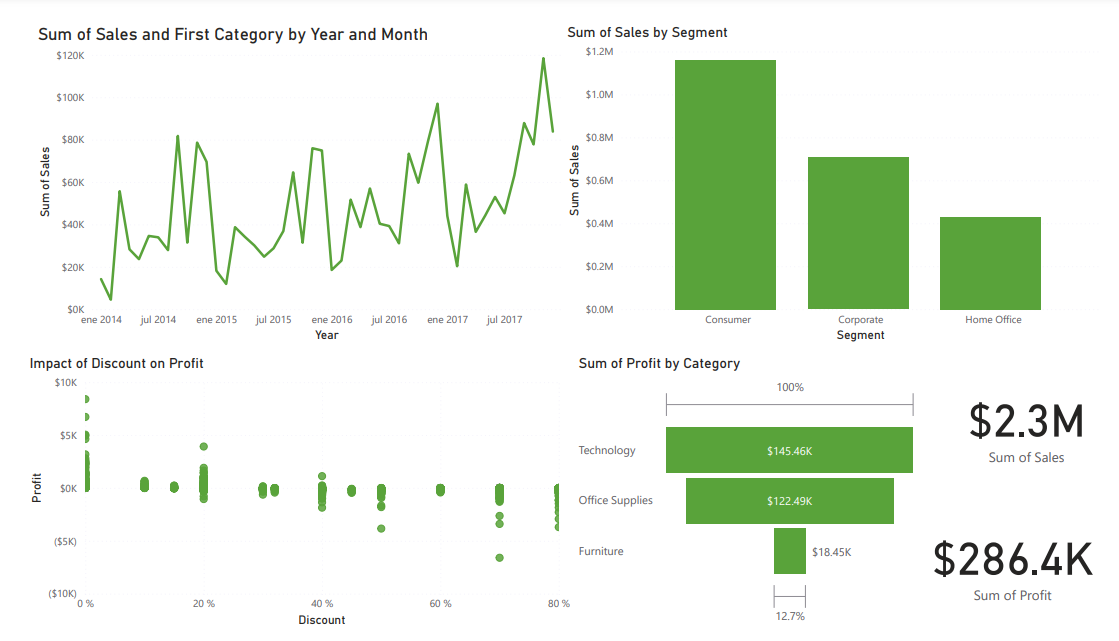

What the dashboard file says about the page in this screenshot:
{"tool":"powerbi","page":{"name":"Page 1","canvas":[1280,720],"ordinal":0},"visuals":[{"type":"lineChart","fields":{"Category":["superstore1 (2).Order Date.Variation.Date Hierarchy.Year","superstore1 (2).Order Date.Variation.Date Hierarchy.Month"],"Y":["Sum(superstore1 (2).Sales)"]},"box":[9.6,0,642.2,382.8],"z":0},{"type":"columnChart","fields":{"Category":["superstore1 (2).Segment"],"Y":["Sum(superstore1 (2).Sales)"]},"box":[638.1,0,642.2,382.8],"z":1000},{"type":"scatterChart","title":"Impact of Discount on Profit","fields":{"X":["superstore1 (2).Discount"],"Y":["superstore1 (2).Profit"]},"box":[0,392.5,651.8,328],"z":2000},{"type":"card","fields":{"Values":["Sum(superstore1 (2).Sales)"]},"box":[1096.4,392.5,183.9,164.7],"z":2001},{"type":"card","fields":{"Values":["Sum(superstore1 (2).Profit)"]},"box":[1063.5,557.1,216.8,163.3],"z":2002},{"type":"funnel","fields":{"Category":["superstore1 (2).Category"],"Y":["Sum(superstore1 (2).Profit)"]},"box":[651.8,392.5,411.7,328],"z":2003}]}

Visuals, with their boxes in screenshot pixels (x1, y1, x2, y2), scaled from the page's 1280x720 canvas onto the 1119x641 screenshot:
lineChart - superstore1 (2).Order Date.Variation.Date Hierarchy.Year x superstore1 (2).Order Date.Variation.Date Hierarchy.Month: pyautogui.locateOnScreen(8, 0, 570, 341)
columnChart - superstore1 (2).Segment x Sum(superstore1 (2).Sales): pyautogui.locateOnScreen(558, 0, 1118, 341)
"Impact of Discount on Profit" scatterChart: pyautogui.locateOnScreen(0, 349, 570, 640)
card - Sum(superstore1 (2).Sales): pyautogui.locateOnScreen(958, 349, 1118, 496)
card - Sum(superstore1 (2).Profit): pyautogui.locateOnScreen(930, 496, 1118, 640)
funnel - superstore1 (2).Category x Sum(superstore1 (2).Profit): pyautogui.locateOnScreen(570, 349, 930, 640)
